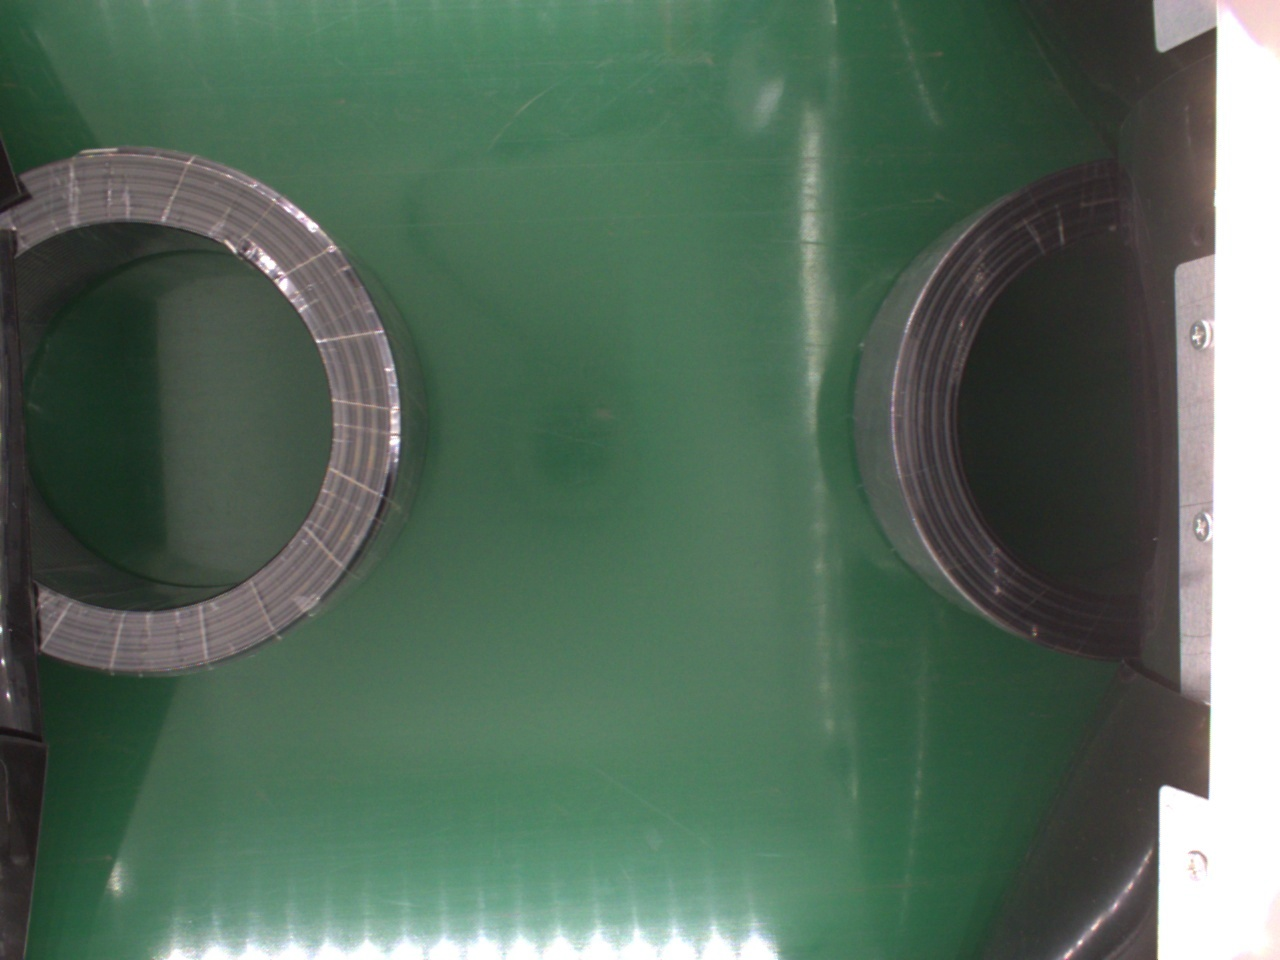black: (18, 145, 422, 679), (844, 157, 1156, 673)
